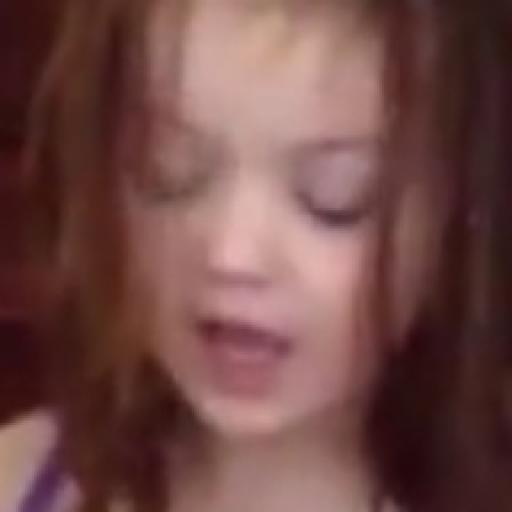Autism: (81, 13, 472, 439)
